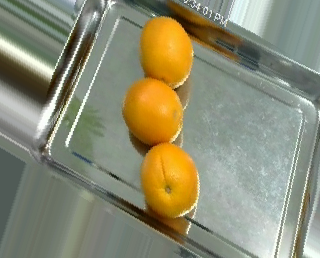Orange: (140, 142, 200, 217), (121, 78, 182, 146), (139, 15, 193, 90)
